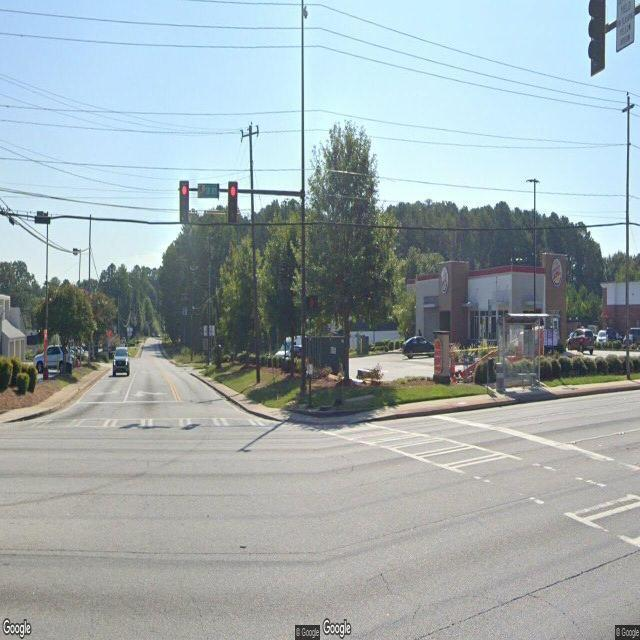seating: (516, 368, 538, 389)
shelter: (496, 309, 550, 393)
trash_can: (496, 362, 504, 394)
